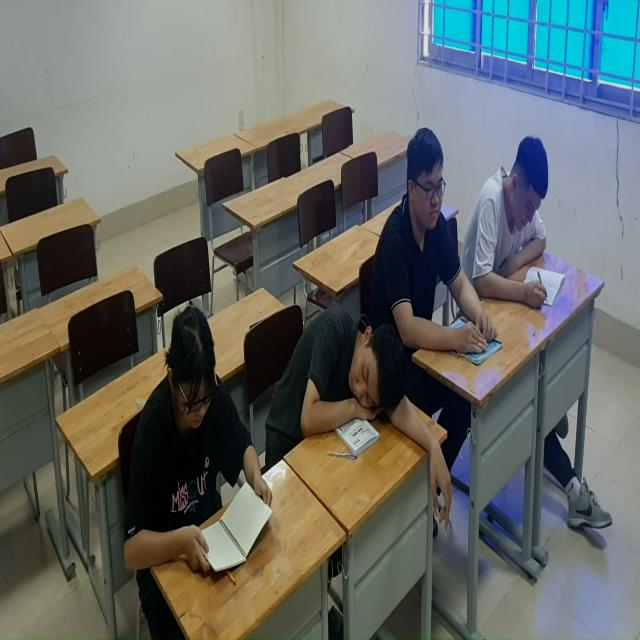read: (121, 293, 279, 599), (388, 125, 508, 375), (468, 117, 570, 319)
sleep: (266, 284, 413, 472)
